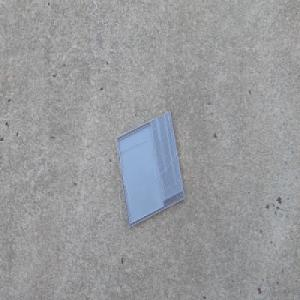PlasticPart: (113, 107, 185, 229)
